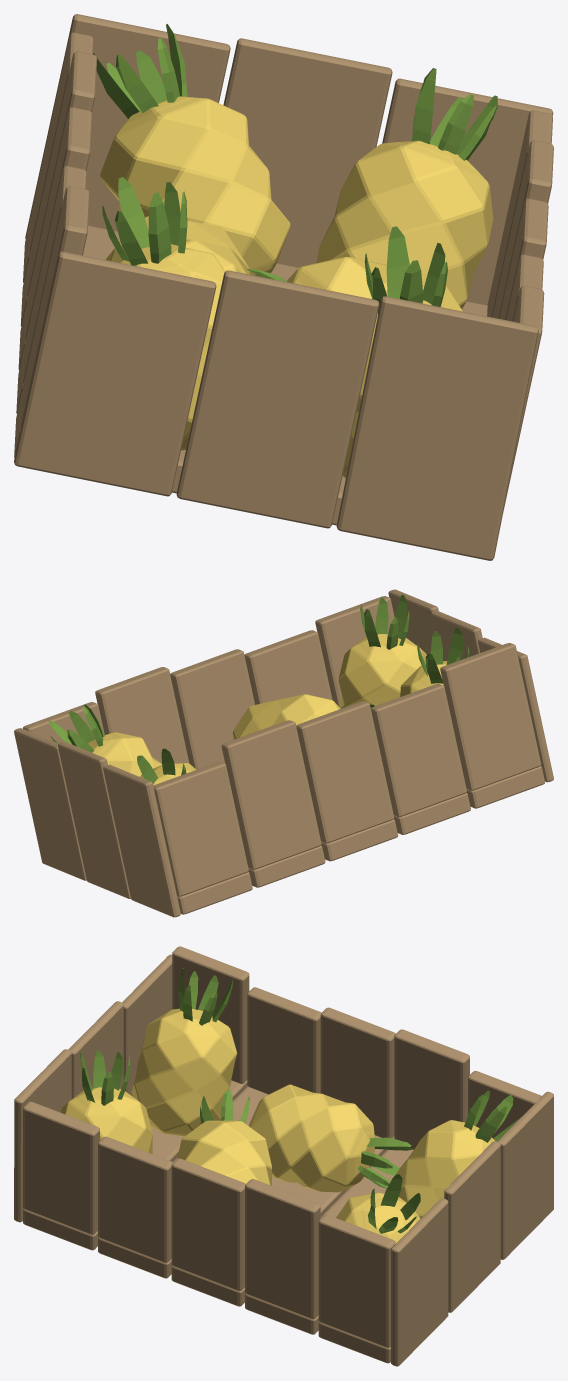
The model's file is PineappleCase.fbx.
3 renders of one model, top to bottom at view 1: azimuth 30°, elevation 25°; view 2: azimuth 150°, elevation 25°; view 3: azimuth 270°, elevation 25°, orthographic. The views are drawn at different scales.
Parts seen in each view (by area): view 1: Plane.039, Cylinder.005, Cylinder.006, Cylinder.008, Cylinder.003, Cylinder.004, Cylinder.007; view 2: Plane.039, Cylinder.003, Cylinder.006, Cylinder.004, Cylinder.008, Cylinder.005; view 3: Plane.039, Cylinder.008, Cylinder.007, Cylinder.005, Cylinder.004, Cylinder.003, Cylinder.006.
Part boxes in pixels (x1=…): Plane.039: x1=14, y1=14, x2=553, y2=560; Cylinder.005: x1=93, y1=24, x2=290, y2=276; Cylinder.006: x1=316, y1=68, x2=497, y2=308; Cylinder.008: x1=102, y1=177, x2=225, y2=450; Cylinder.003: x1=342, y1=226, x2=447, y2=478; Cylinder.004: x1=247, y1=257, x2=462, y2=311; Cylinder.007: x1=106, y1=216, x2=250, y2=274; Plane.039: x1=14, y1=589, x2=553, y2=917; Cylinder.003: x1=338, y1=594, x2=426, y2=708; Cylinder.006: x1=48, y1=704, x2=161, y2=776; Cylinder.004: x1=232, y1=694, x2=374, y2=739; Cylinder.008: x1=400, y1=627, x2=469, y2=696; Cylinder.005: x1=137, y1=748, x2=196, y2=785; Plane.039: x1=14, y1=946, x2=553, y2=1366; Cylinder.008: x1=131, y1=968, x2=237, y2=1136; Cylinder.007: x1=249, y1=1084, x2=412, y2=1192; Cylinder.005: x1=396, y1=1090, x2=521, y2=1218; Cylinder.004: x1=177, y1=1089, x2=271, y2=1185; Cylinder.003: x1=61, y1=1050, x2=152, y2=1153; Cylinder.006: x1=336, y1=1174, x2=420, y2=1243.
Bounding box in the file's own units: 271 × 142 × 286.
